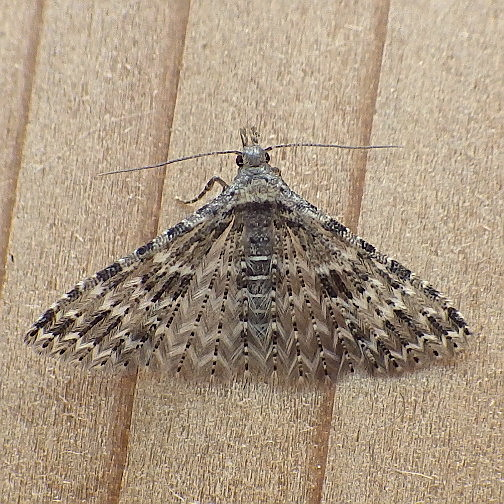Alucitidae: (18, 126, 471, 390)
moth: (20, 128, 473, 392)
